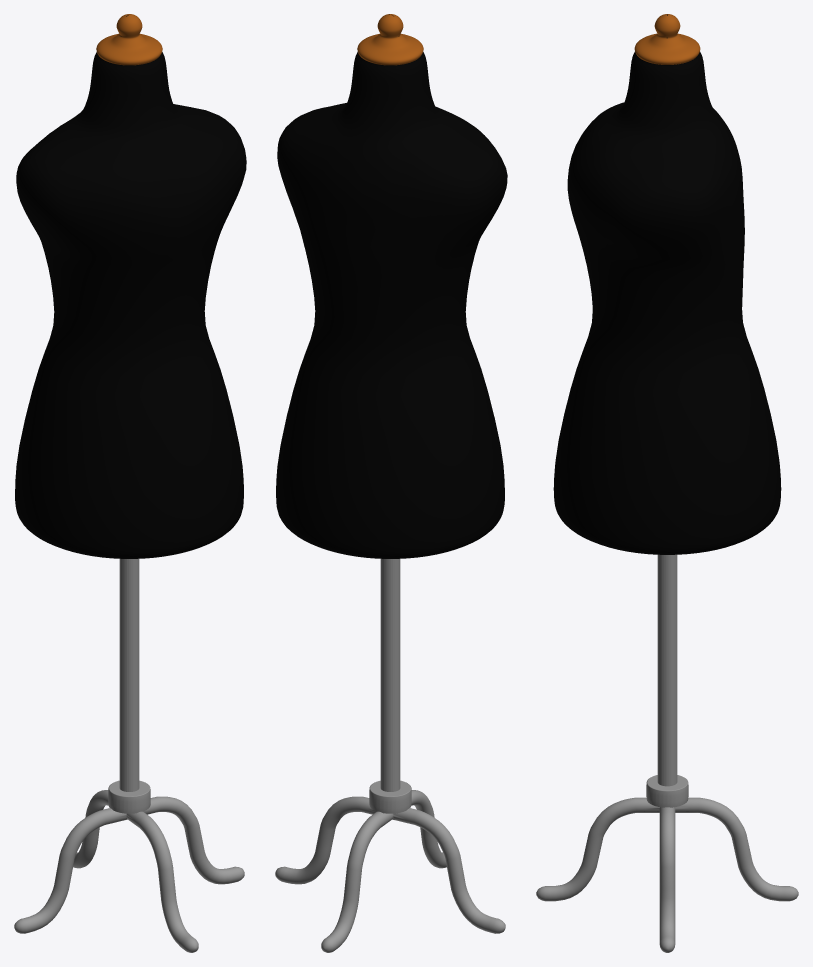
File: manequin_statue.glb
3 renders of one model, left to right at view 1: azimuth 30°, elevation 25°; view 2: azimuth 150°, elevation 25°; view 3: azimuth 270°, elevation 25°, orthographic.
Parts seen in each view (by area): view 1: Cylinder, Cylinder.002, Cylinder.001; view 2: Cylinder, Cylinder.002, Cylinder.001; view 3: Cylinder, Cylinder.002, Cylinder.001.
Boxes of the visible parts, <box> form: Cylinder: <box>15,14,246,558</box>; Cylinder.002: <box>14,790,244,952</box>; Cylinder.001: <box>108,558,150,813</box>; Cylinder: <box>276,14,507,558</box>; Cylinder.002: <box>275,790,505,952</box>; Cylinder.001: <box>369,558,411,813</box>; Cylinder: <box>553,14,781,554</box>; Cylinder.002: <box>536,797,798,952</box>; Cylinder.001: <box>646,554,688,807</box>.
Bounding box in the file's own units: 3.8 × 14.16 × 3.8.
